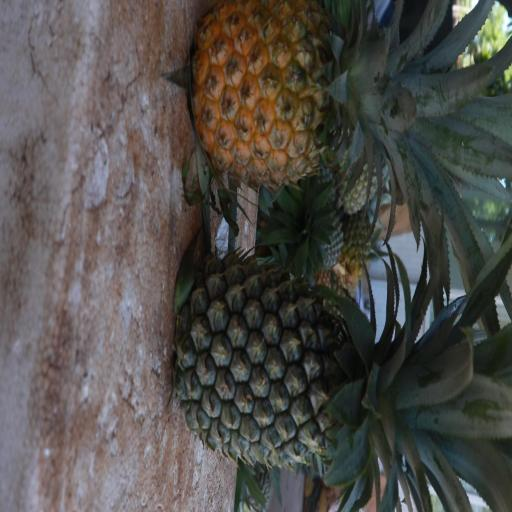Pineapple - v8 v1: (193, 3, 481, 175)
